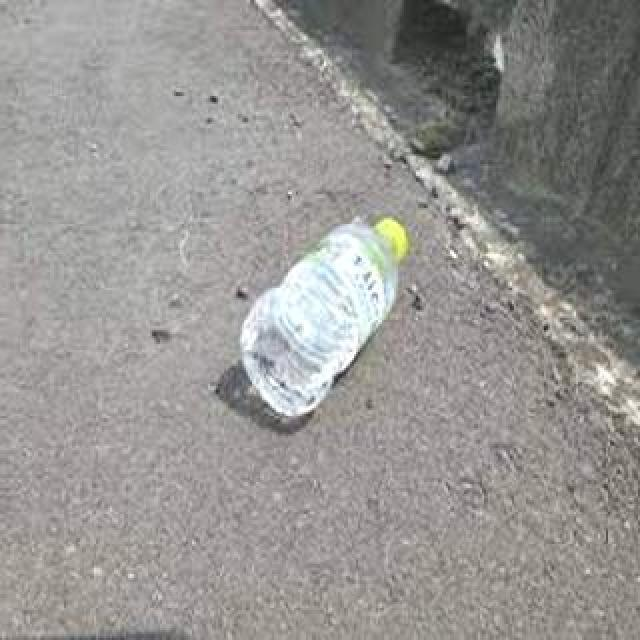Pet_Bottle: (237, 217, 411, 423)
